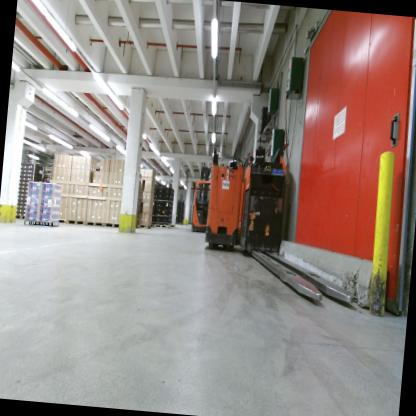forklift: (187, 158, 223, 239)
pallet: (103, 219, 123, 230), (66, 218, 86, 227), (154, 223, 172, 231), (86, 220, 105, 227), (134, 224, 151, 230), (57, 217, 67, 225), (14, 214, 26, 220), (151, 223, 154, 229)
pallet_truck: (233, 145, 362, 312), (202, 156, 250, 264)
